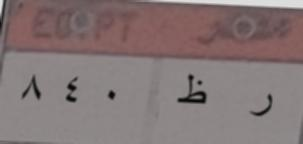0: (106, 83, 118, 106)
4: (59, 74, 83, 110)
8: (19, 71, 43, 106)
Thaa: (174, 69, 208, 110)
raa: (247, 83, 274, 122)
